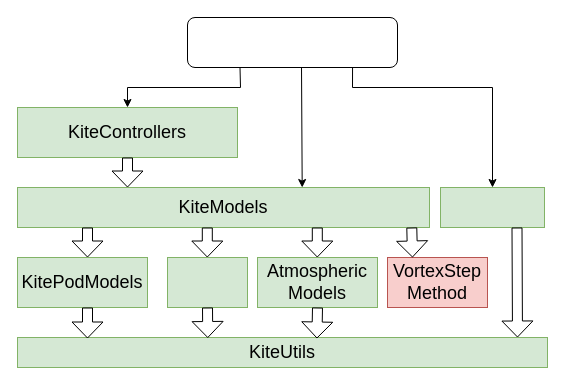
This 565x385 diagram has some shape labels left out. The centre of each missing label's shape, as x and y in pixels:
"KiteSimulators" belongs at (292,42).
"KiteViewers" belongs at (492,207).
"Winch Models" belongs at (207,282).
